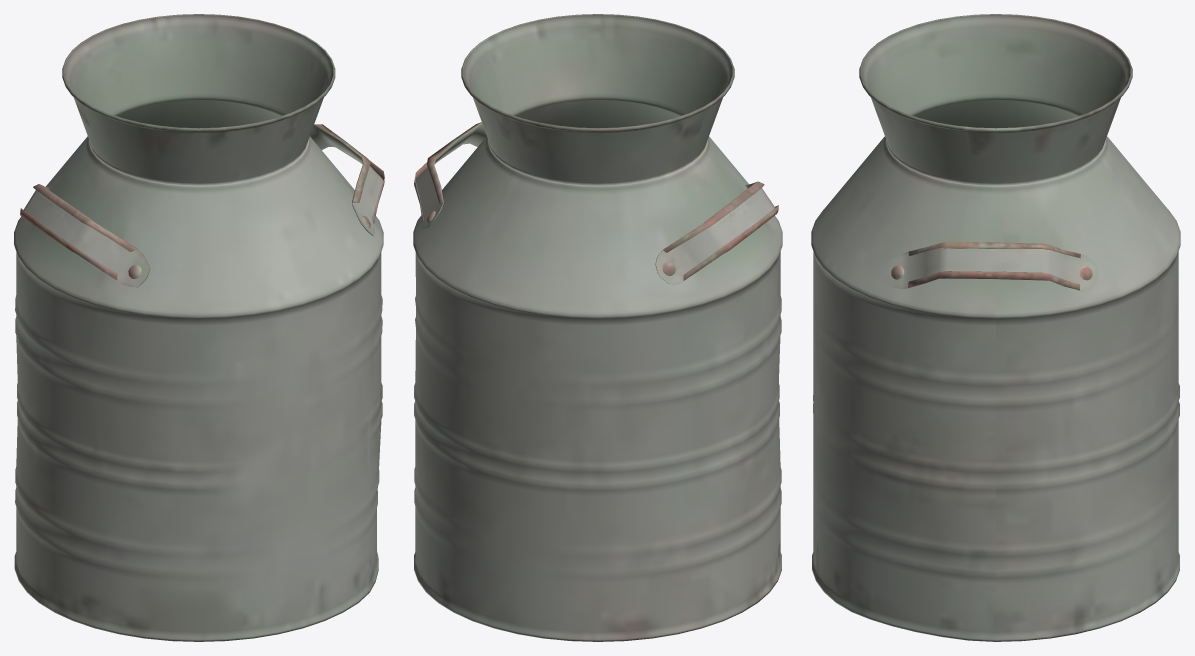
The model's file is jug.glb.
3 views of the same model, side by side, from view 1: azimuth 30°, elevation 25°; view 2: azimuth 150°, elevation 25°; view 3: azimuth 270°, elevation 25° (orthographic).
Visible parts, largest first — view 1: metal_jug; view 2: metal_jug; view 3: metal_jug.
Boxes of the visible parts, <box> form: metal_jug: <box>14,14,384,641</box>; metal_jug: <box>413,14,782,641</box>; metal_jug: <box>811,14,1180,641</box>.
Size of the model in its own units: 0.1968 by 0.2875 by 0.1955.
Materials: 1 (1 with a texture image).
